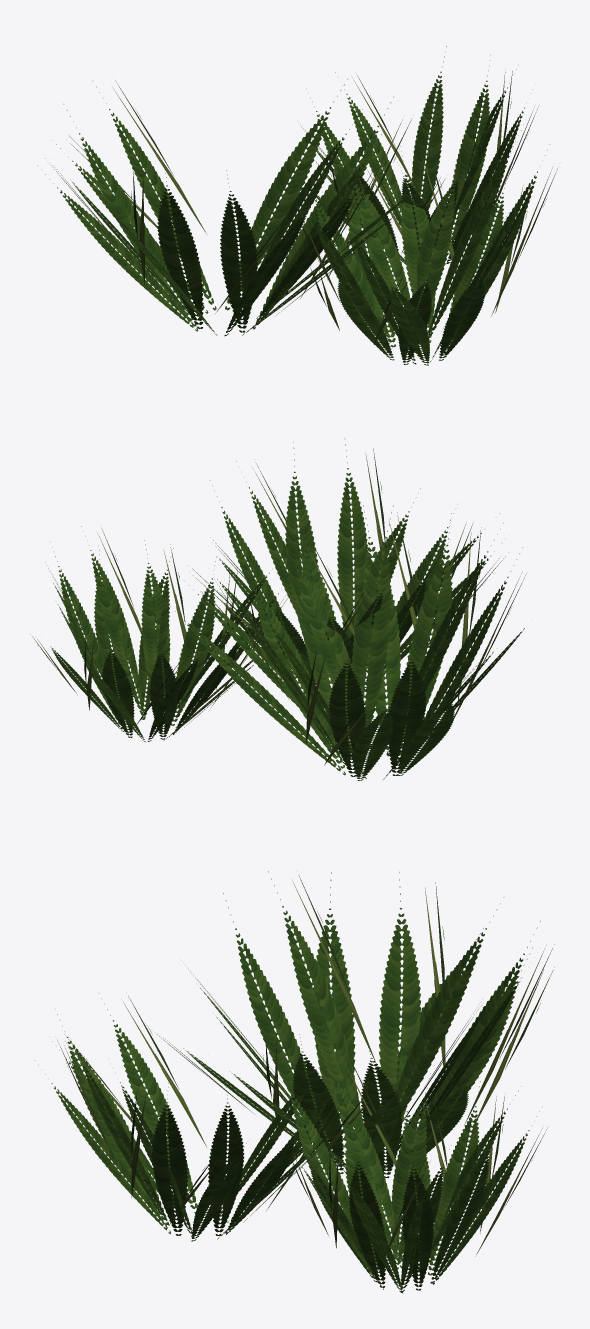
Rendered from FernPatch.fbx.
3 views of the same model, one above another, from view 1: azimuth 30°, elevation 25°; view 2: azimuth 150°, elevation 25°; view 3: azimuth 270°, elevation 25° (orthographic). The views are drawn at different scales.
Visible parts, largest first — view 1: FernPatch; view 2: FernPatch; view 3: FernPatch.
Part boxes in pixels (x1,y1,x2,y2): FernPatch: [37, 46, 557, 365]; FernPatch: [32, 438, 526, 780]; FernPatch: [35, 871, 554, 1293].
Bounding box in the file's own units: 1.4 × 0.659 × 1.26.
